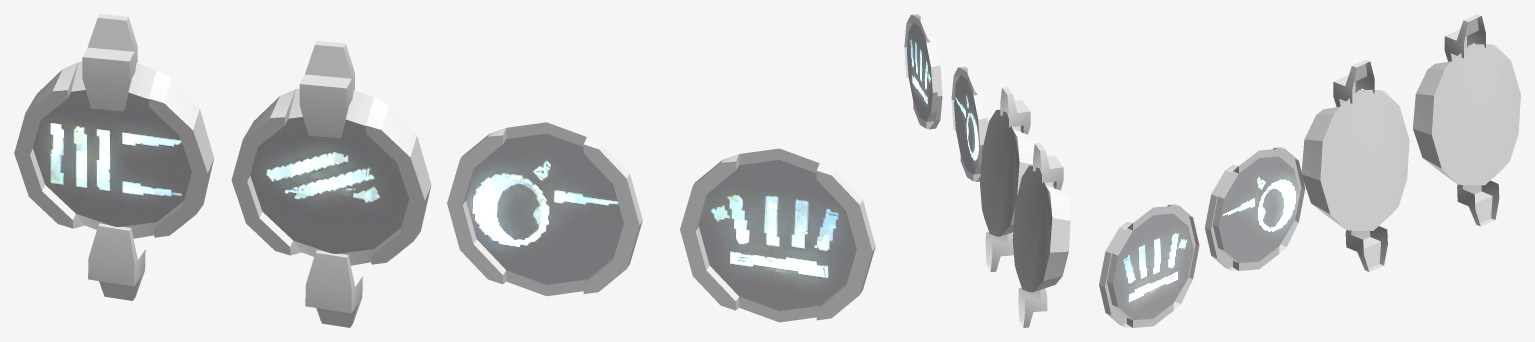
The picture shows the model from 3 angles, left to right: view 1: azimuth 30°, elevation 25°; view 2: azimuth 150°, elevation 25°; view 3: azimuth 270°, elevation 25°; orthographic projection. The views are drawn at different scales.
Parts seen in each view (by area): view 1: CMDL_73F36E22, CMDL_73F36E22.001, CMDL_E6C4B13E, CMDL_E6C4B13E.001; view 2: CMDL_73F36E22.001, CMDL_73F36E22, CMDL_E6C4B13E.001, CMDL_E6C4B13E; view 3: CMDL_73F36E22.001, CMDL_73F36E22, CMDL_E6C4B13E.001, CMDL_E6C4B13E.
Boxes of the visible parts, box(x1,y1,x2,y2) form: CMDL_73F36E22: box(231, 41, 431, 327); CMDL_73F36E22.001: box(14, 14, 213, 300); CMDL_E6C4B13E: box(447, 122, 642, 296); CMDL_E6C4B13E.001: box(680, 148, 875, 322); CMDL_73F36E22.001: box(1012, 143, 1070, 327); CMDL_73F36E22: box(980, 87, 1035, 271); CMDL_E6C4B13E.001: box(904, 14, 942, 129); CMDL_E6C4B13E: box(951, 66, 987, 181); CMDL_73F36E22.001: box(1413, 14, 1520, 226); CMDL_73F36E22: box(1301, 59, 1409, 271); CMDL_E6C4B13E.001: box(1099, 204, 1199, 327); CMDL_E6C4B13E: box(1205, 147, 1305, 270).
Size of the model in its own units: 627 by 308 by 591.
